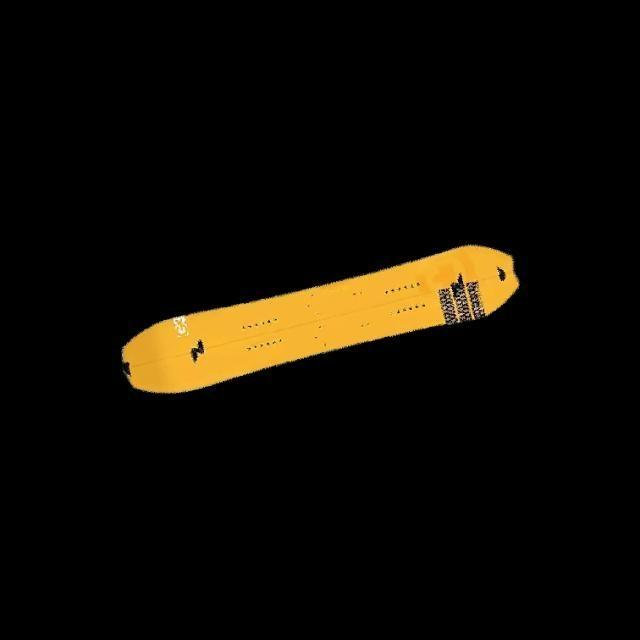Snowboard: (120, 243, 520, 395)
